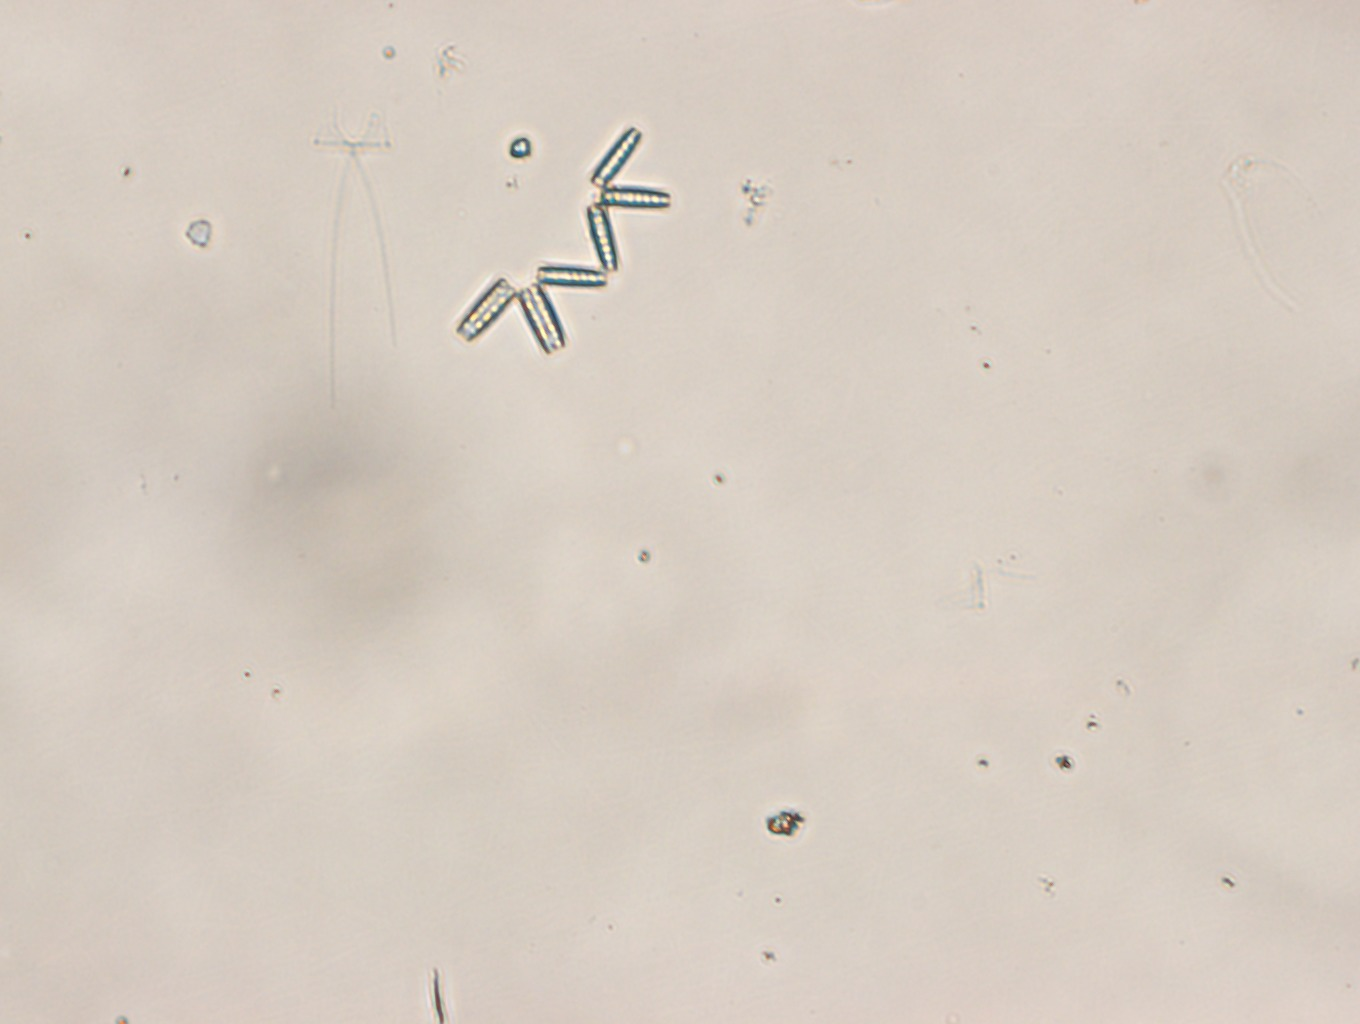chaetoceros: (310, 101, 399, 406)
thalassionema nitzschioides: (456, 125, 674, 354)
